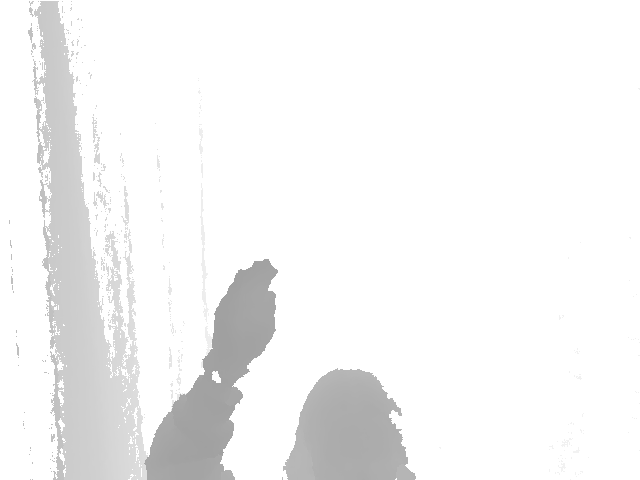hand: (202, 259, 279, 377)
head: (285, 369, 416, 480)
person: (146, 259, 416, 480)
